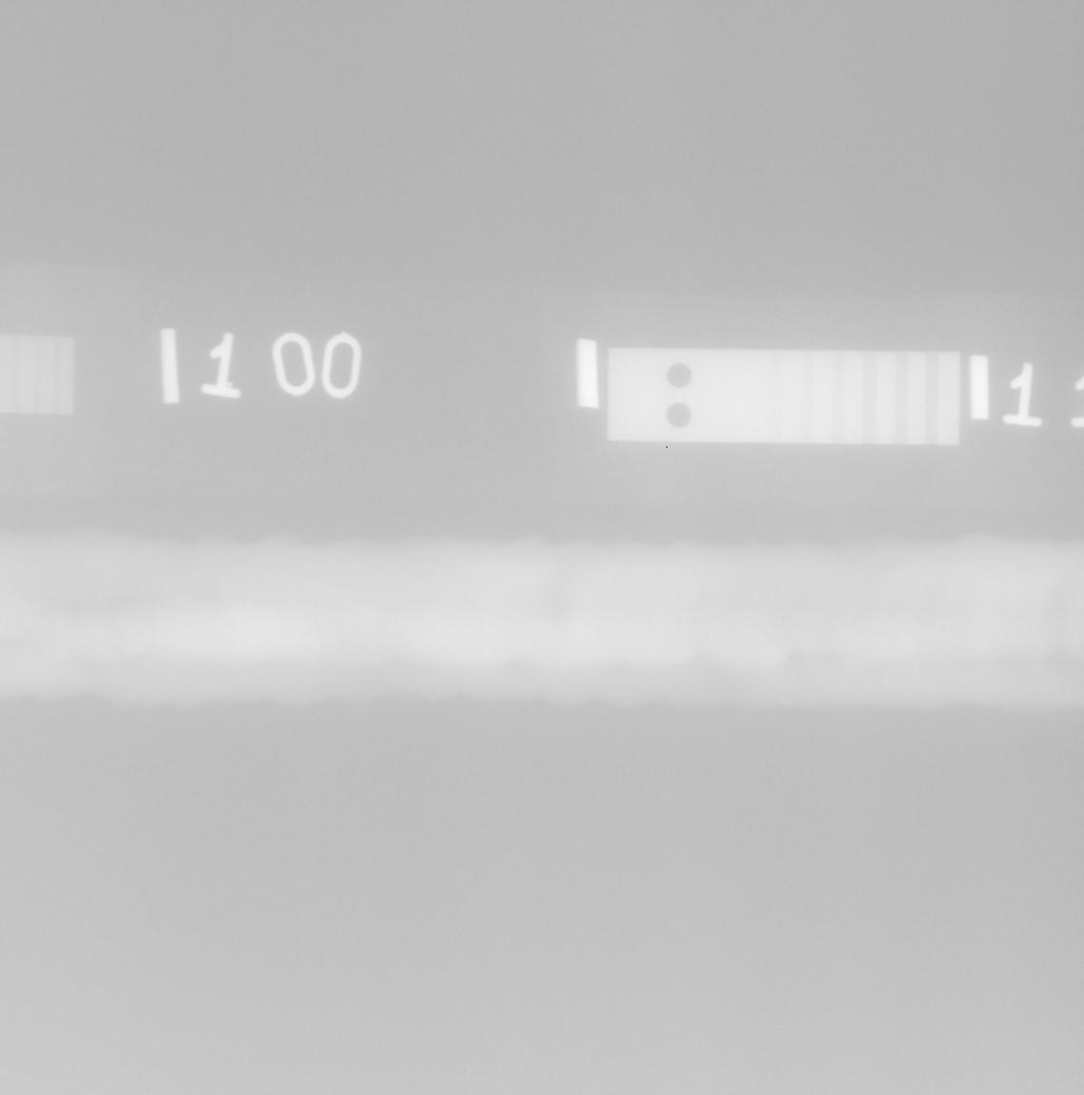Pore/Porosity: (554, 602, 559, 605)
Reference Standard 2: (606, 348, 960, 446)
